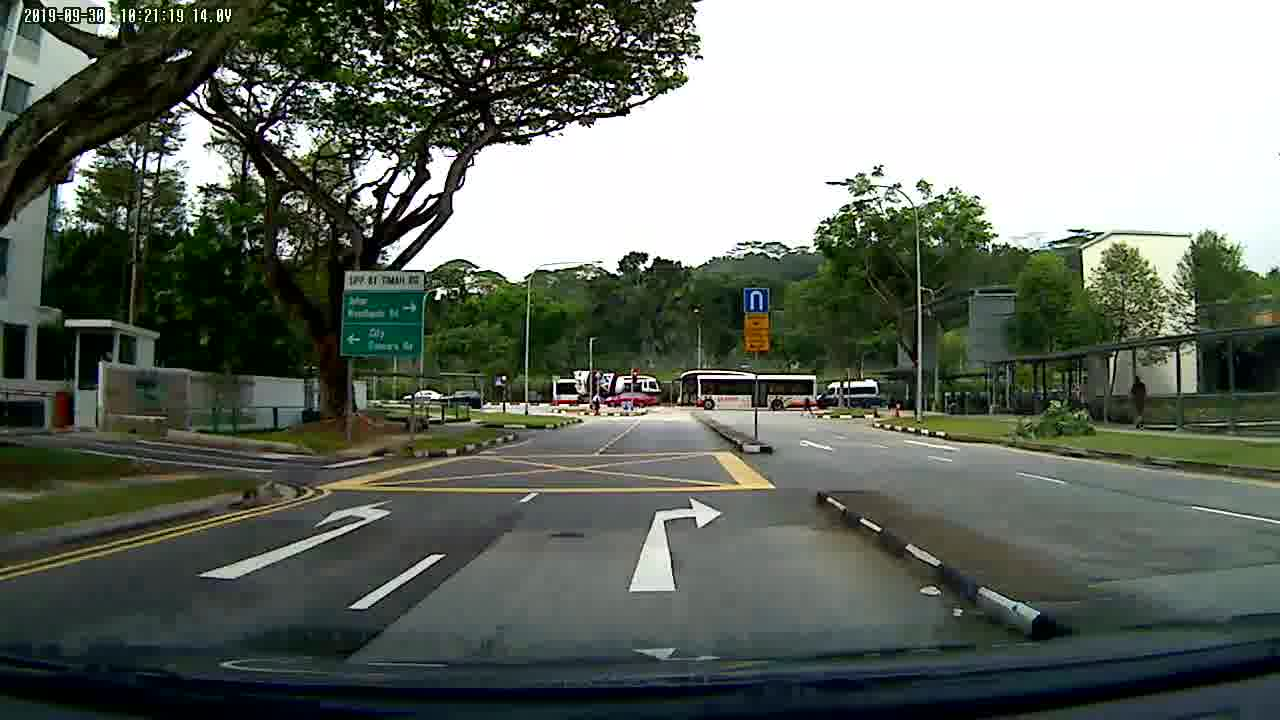bus: (677, 366, 818, 411)
